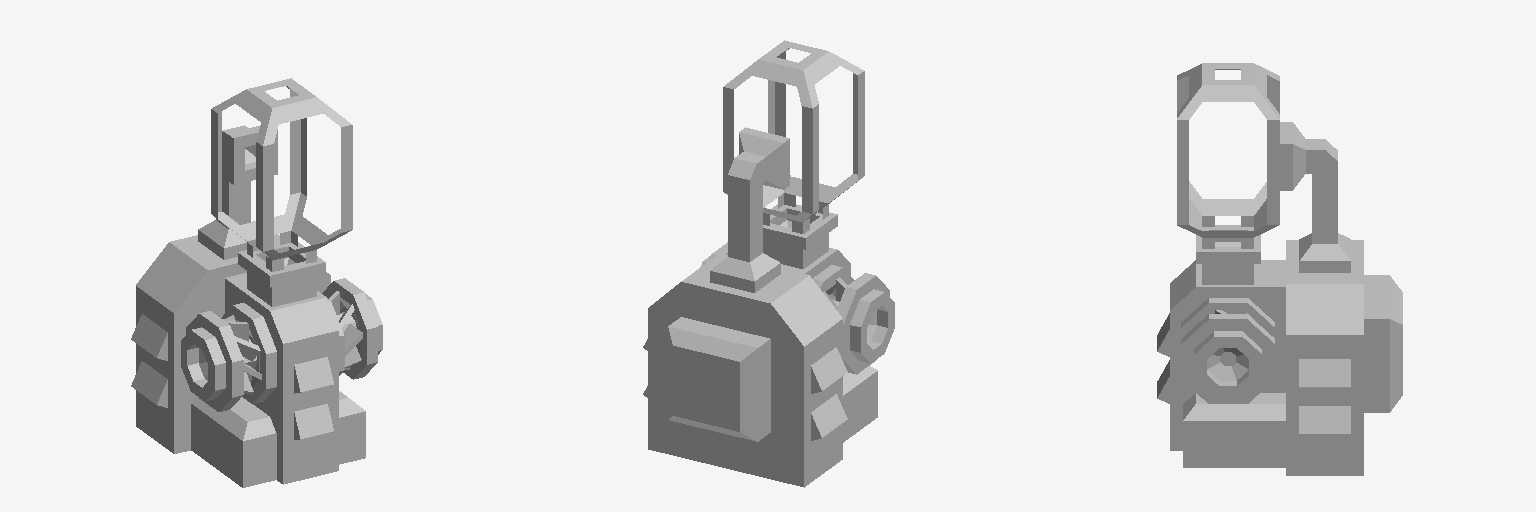
Rendered from actuator_air_inventory.obj.
The picture shows the model from 3 angles: view 1: azimuth 30°, elevation 25°; view 2: azimuth 150°, elevation 25°; view 3: azimuth 270°, elevation 25°; orthographic projection.
Parts seen in each view (by area): view 1: GALE_PRESSURIZER_BODY_Cube.024, GALE_PRESSURIZER_FAN_Cube.033; view 2: GALE_PRESSURIZER_BODY_Cube.024; view 3: GALE_PRESSURIZER_BODY_Cube.024.
Boxes of the visible parts, x1=… form: GALE_PRESSURIZER_BODY_Cube.024: x1=131, y1=78, x2=382, y2=487; GALE_PRESSURIZER_FAN_Cube.033: x1=223, y1=291, x2=362, y2=394; GALE_PRESSURIZER_BODY_Cube.024: x1=643, y1=40, x2=894, y2=487; GALE_PRESSURIZER_BODY_Cube.024: x1=1157, y1=63, x2=1402, y2=475.
Size of the model in its own units: 1 by 1.94 by 1.19.